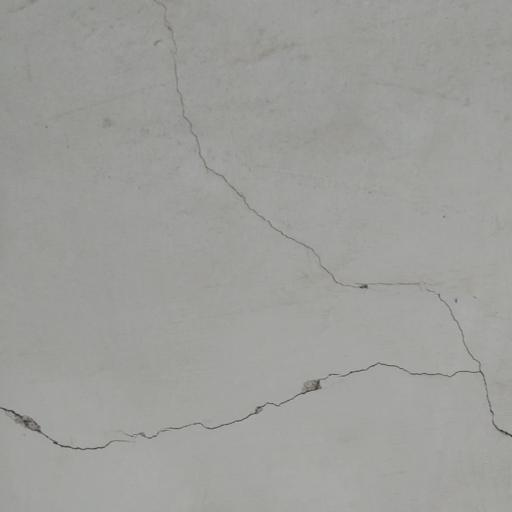major_crack: (146, 0, 511, 445), (0, 350, 496, 466)
